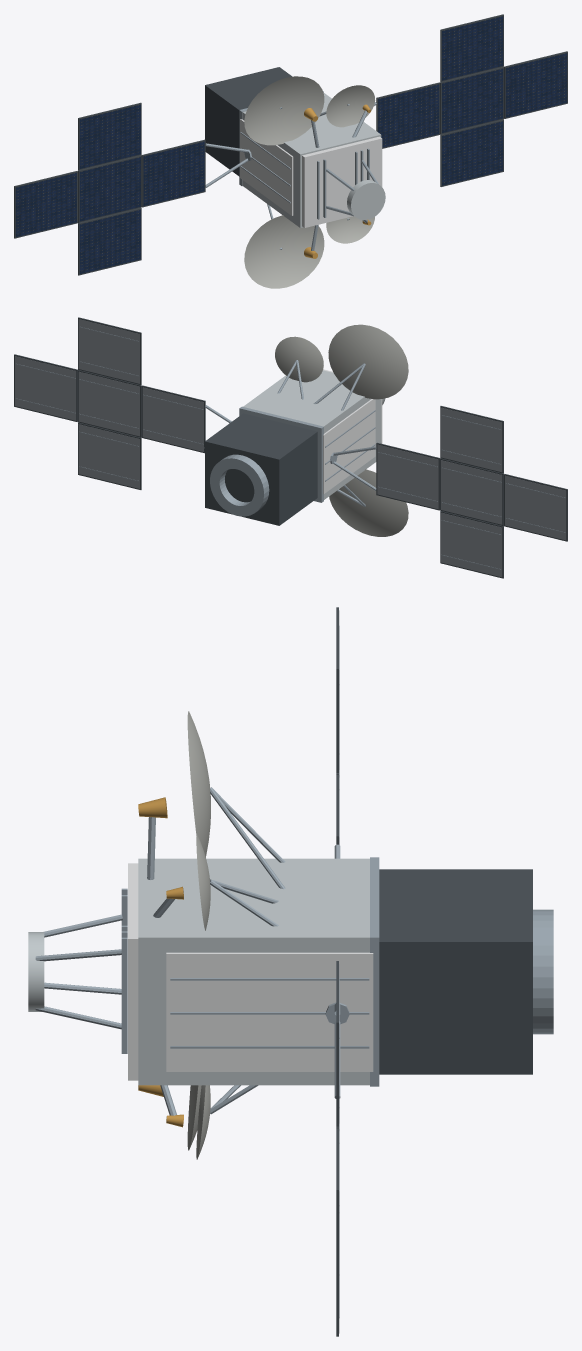
Rendered from ref-ssl-1300sx-28786.glb.
3 renders of one model, top to bottom at view 1: azimuth 30°, elevation 25°; view 2: azimuth 150°, elevation 25°; view 3: azimuth 270°, elevation 25°, orthographic. The views are drawn at different scales.
Visible parts, largest first — view 1: Solar cell panel (×10), Communications reflector (×4), Earth-facing deck, Solar panel frame (×10), Service module, Payload module, Radiator face, Antenna tower platform; view 2: Rear array substrate (×10), Communications reflector (×3), Service module, Payload module, Solar panel frame (×10), Radiator face, Launch adapter ring, Module interface; view 3: Service module, Payload module, Radiator face, Launch adapter ring, Earth-facing deck, Communications reflector, Module interface, Antenna tower platform.
Part boxes in pixels (x1=…): Solar cell panel (×10): x1=15, y1=16, x2=567, y2=274; Communications reflector (×4): x1=244, y1=76, x2=375, y2=288; Earth-facing deck: x1=302, y1=136, x2=382, y2=227; Solar panel frame (×10): x1=14, y1=14, x2=567, y2=275; Service module: x1=205, y1=67, x2=291, y2=176; Payload module: x1=242, y1=92, x2=381, y2=227; Radiator face: x1=240, y1=119, x2=293, y2=215; Antenna tower platform: x1=347, y1=180, x2=385, y2=219; Rear array substrate (×10): x1=15, y1=319, x2=566, y2=577; Communications reflector (×3): x1=275, y1=324, x2=408, y2=536; Service module: x1=205, y1=413, x2=317, y2=525; Payload module: x1=243, y1=370, x2=381, y2=499; Solar panel frame (×10): x1=14, y1=317, x2=567, y2=578; Radiator face: x1=323, y1=399, x2=375, y2=494; Launch adapter ring: x1=210, y1=454, x2=269, y2=516; Module interface: x1=239, y1=406, x2=323, y2=502; Service module: x1=379, y1=869, x2=532, y2=1074; Payload module: x1=138, y1=858, x2=369, y2=1085; Radiator face: x1=166, y1=952, x2=373, y2=1071; Launch adapter ring: x1=533, y1=909, x2=553, y2=1034; Earth-facing deck: x1=128, y1=863, x2=138, y2=1080; Communications reflector: x1=187, y1=711, x2=210, y2=857; Module interface: x1=370, y1=857, x2=379, y2=1086; Antenna tower platform: x1=28, y1=932, x2=44, y2=1011.
Bounding box in the file's own units: 25.97 × 9.41 × 10.67.
8 materials, 1 textured.
